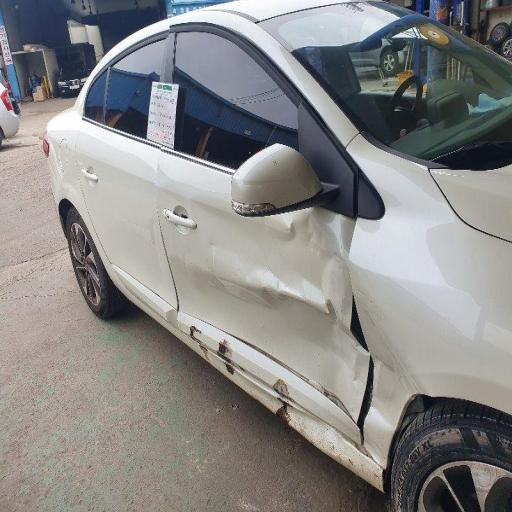dent: (168, 140, 402, 456)
